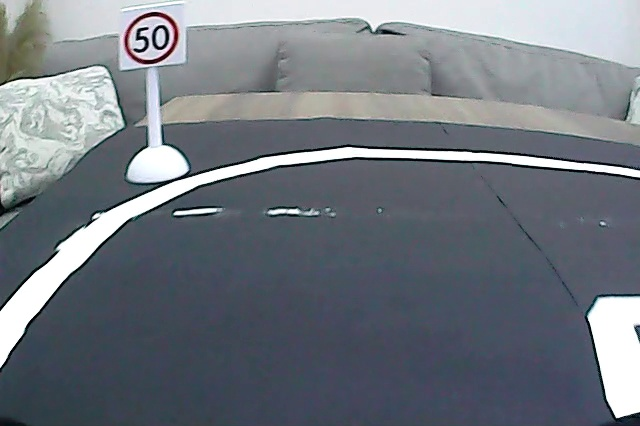speed limit 50: (124, 8, 181, 68)
